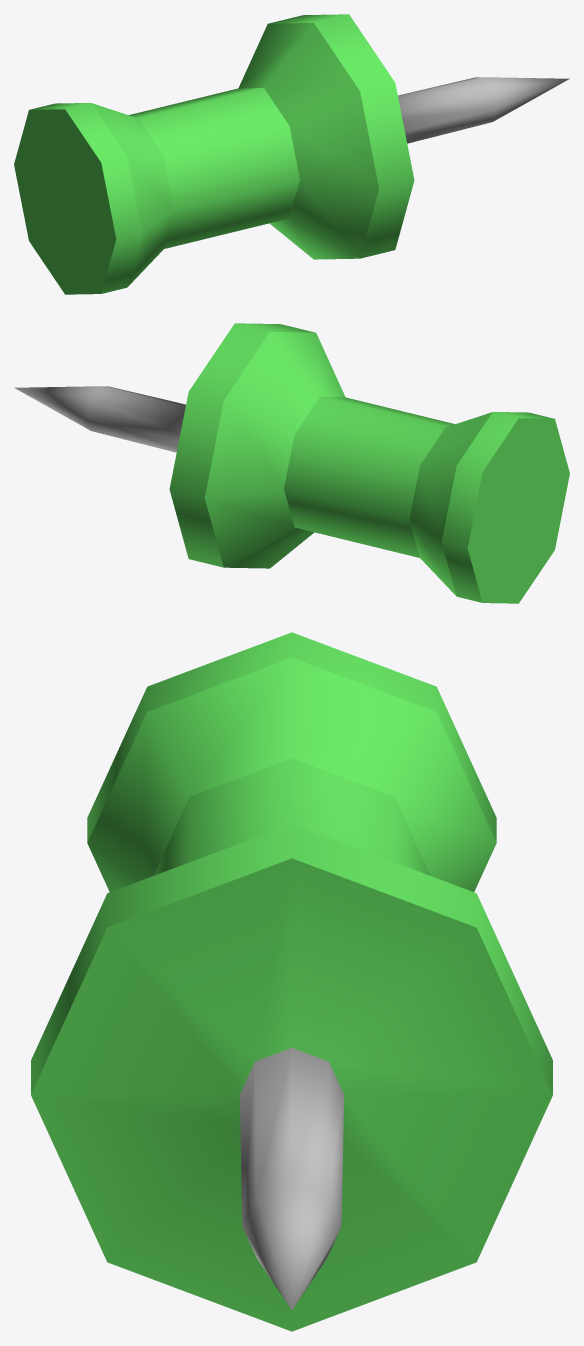
Rendered from thumbtack.fbx.
3 views of the same model, one above another, from view 1: azimuth 30°, elevation 25°; view 2: azimuth 150°, elevation 25°; view 3: azimuth 270°, elevation 25° (orthographic). The views are drawn at different scales.
Parts seen in each view (by area): view 1: thumbtack; view 2: thumbtack; view 3: thumbtack.
Boxes of the visible parts, bbox=[...] form: thumbtack: bbox=[14, 14, 569, 294]; thumbtack: bbox=[14, 323, 569, 603]; thumbtack: bbox=[31, 632, 552, 1331].
Bounding box in the file's own units: 3.41 × 1.53 × 1.53.
